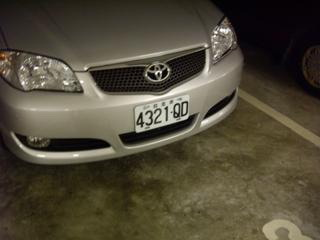plate: (132, 98, 190, 127)
